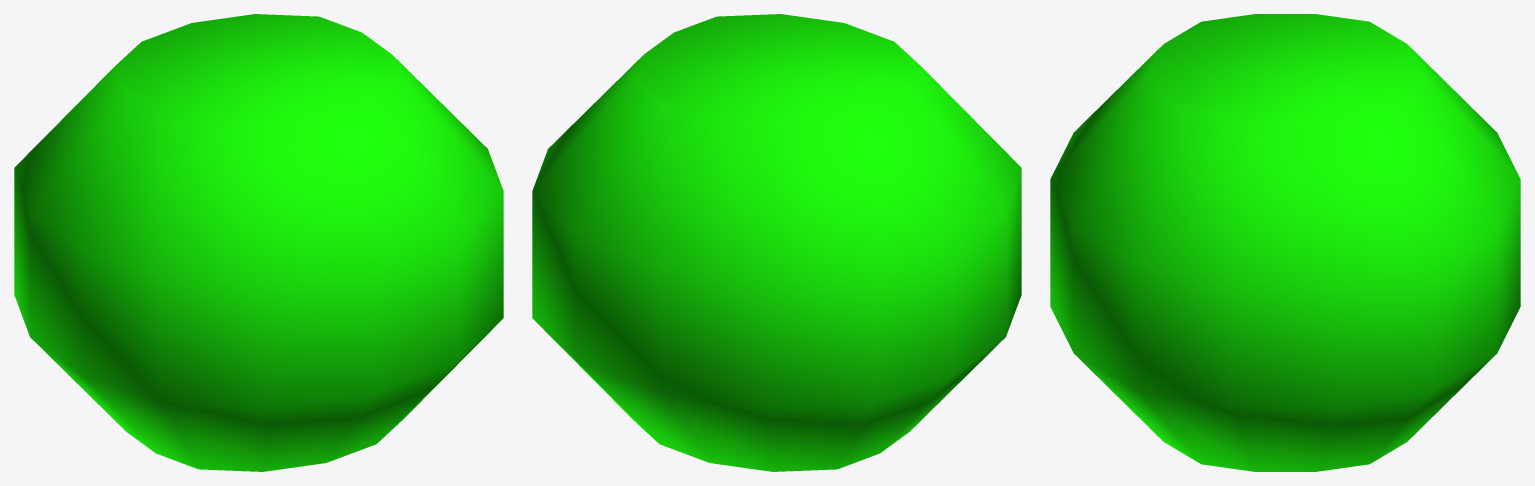
The model's file is monsterA.FBX.
3 views of the same model, side by side, from view 1: azimuth 30°, elevation 25°; view 2: azimuth 150°, elevation 25°; view 3: azimuth 270°, elevation 25° (orthographic).
Parts seen in each view (by area): view 1: MonsterA; view 2: MonsterA; view 3: MonsterA.
Boxes of the visible parts, x1,y1,x2,y2 form: MonsterA: [14, 14, 503, 471]; MonsterA: [532, 14, 1021, 471]; MonsterA: [1050, 14, 1520, 471].
Size of the model in its own units: 1.74 by 1.74 by 1.4.
